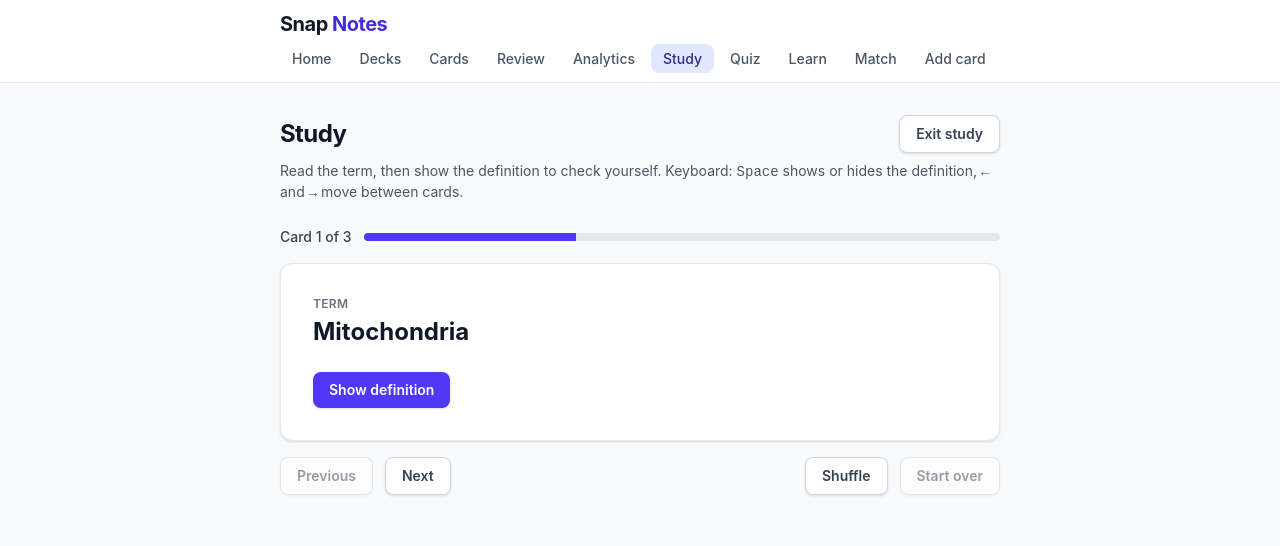
Test: StudyPage › starts over from the first card
The width and height of the screenshot is (1280, 546).
Click the button "Next" at (418, 476), box [385, 457, 451, 495]
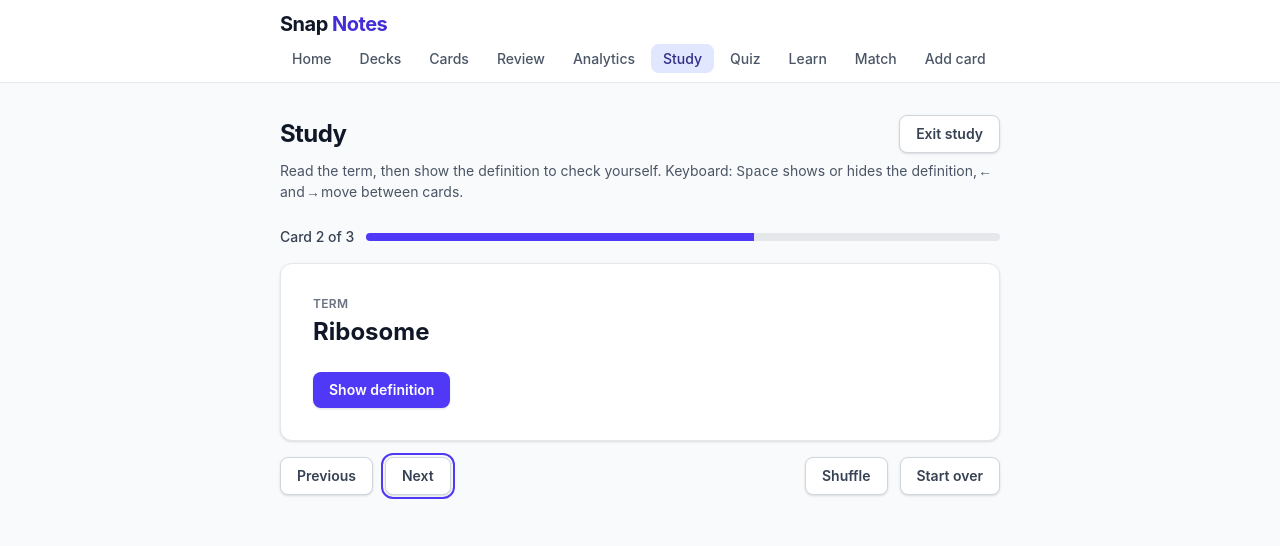
Click the button "Next" at (418, 476), box [385, 457, 451, 495]
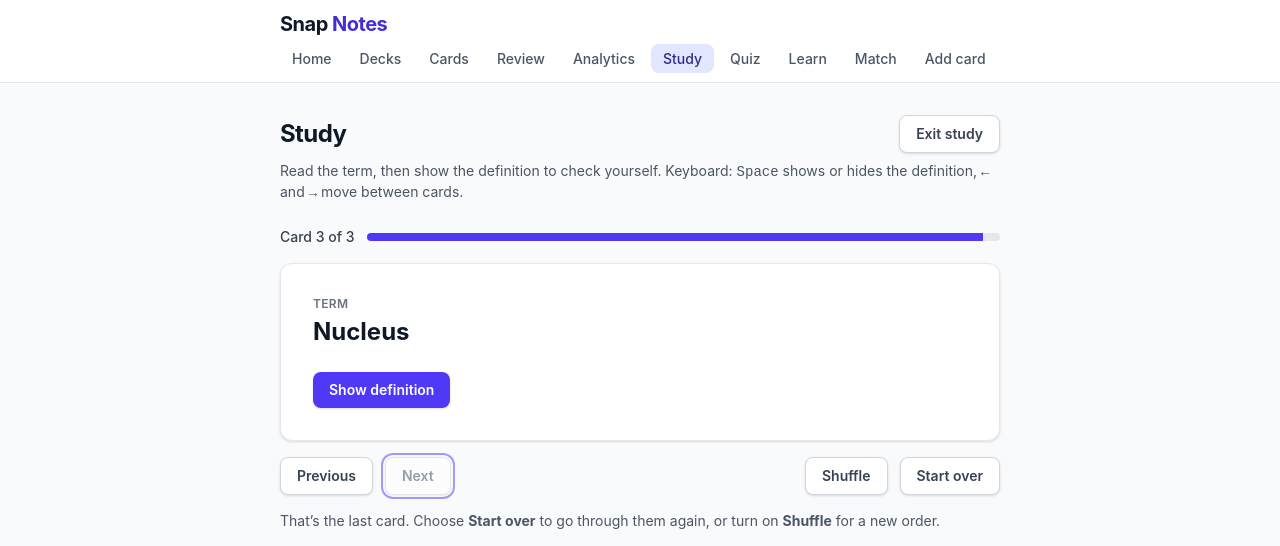
Click the button "Start over" at (950, 476), box [900, 457, 1000, 495]
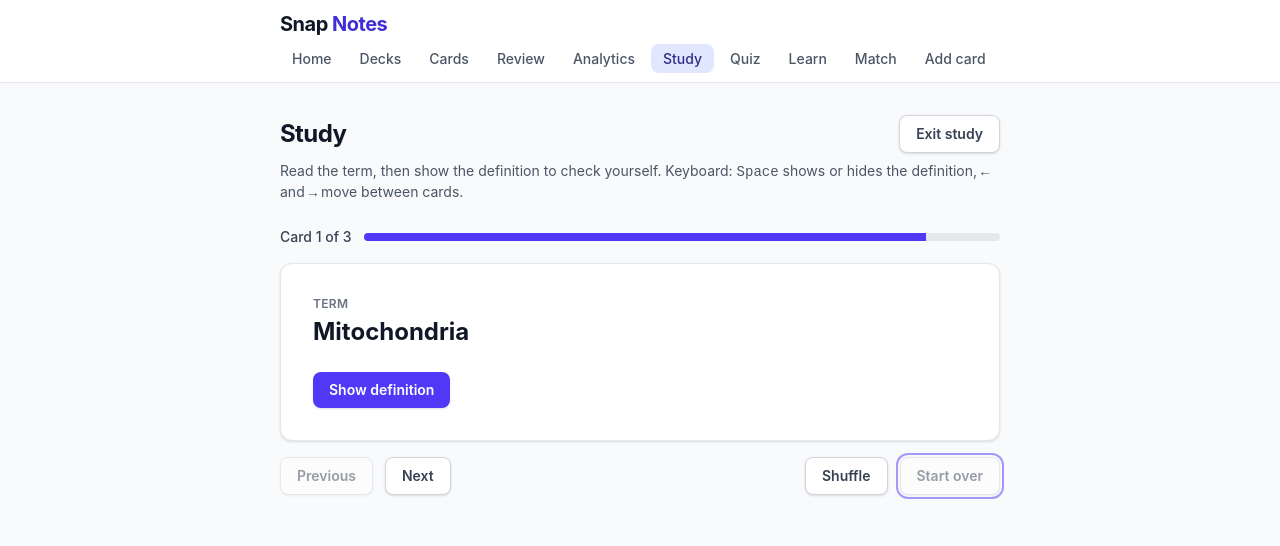
Result: the heading "Mitochondria" is shown at [313, 317, 469, 346]
Result: the text "Card 1 of 3" is shown at [280, 227, 352, 247]
